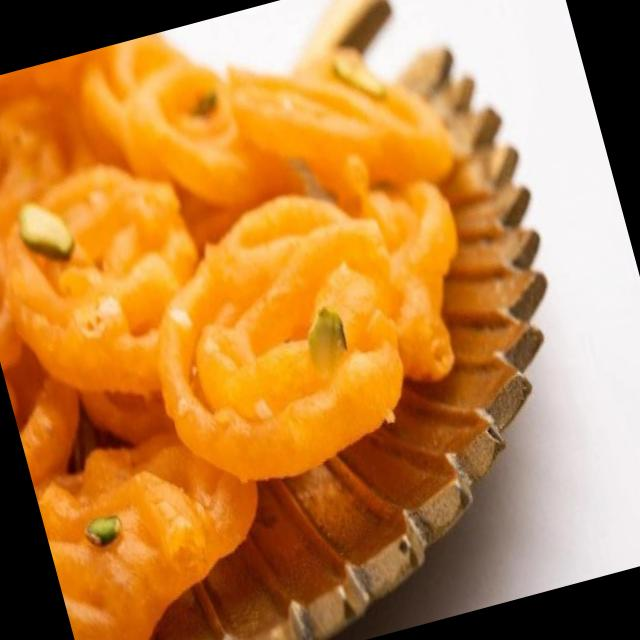jalebi: (0, 0, 527, 629)
